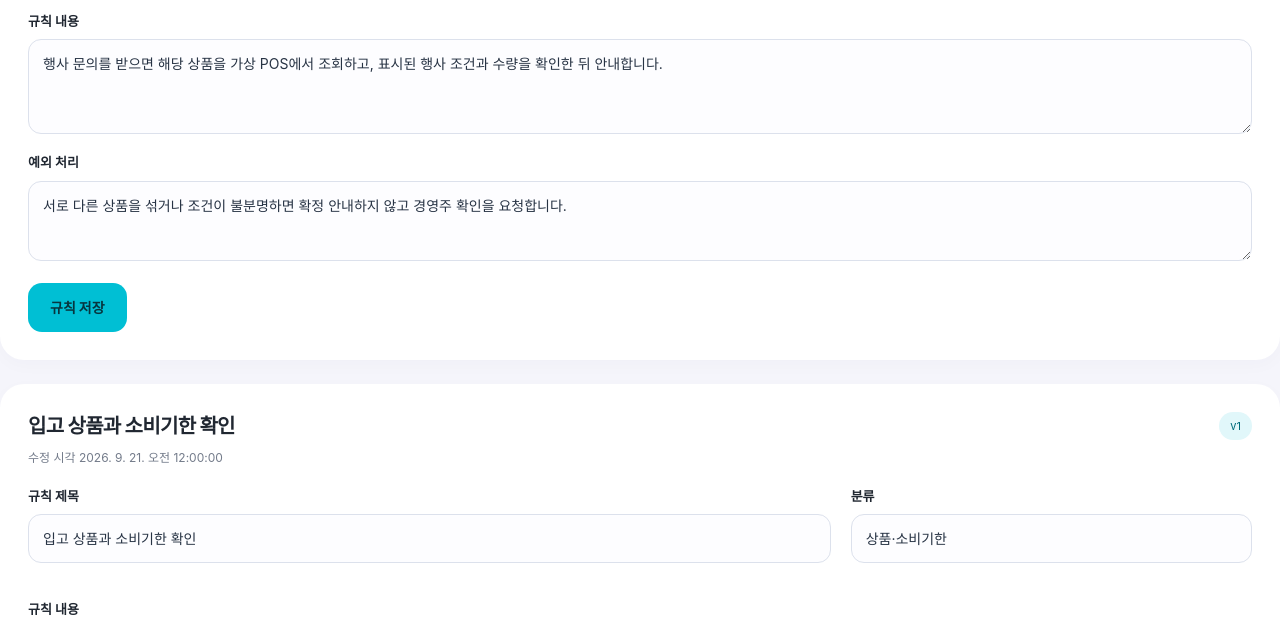
Test: does not report a durable save when storage writes fail
The image size is (1280, 628).
(page scrolled)
Click the button "규칙 저장" at (77, 307), box [28,283,127,332]
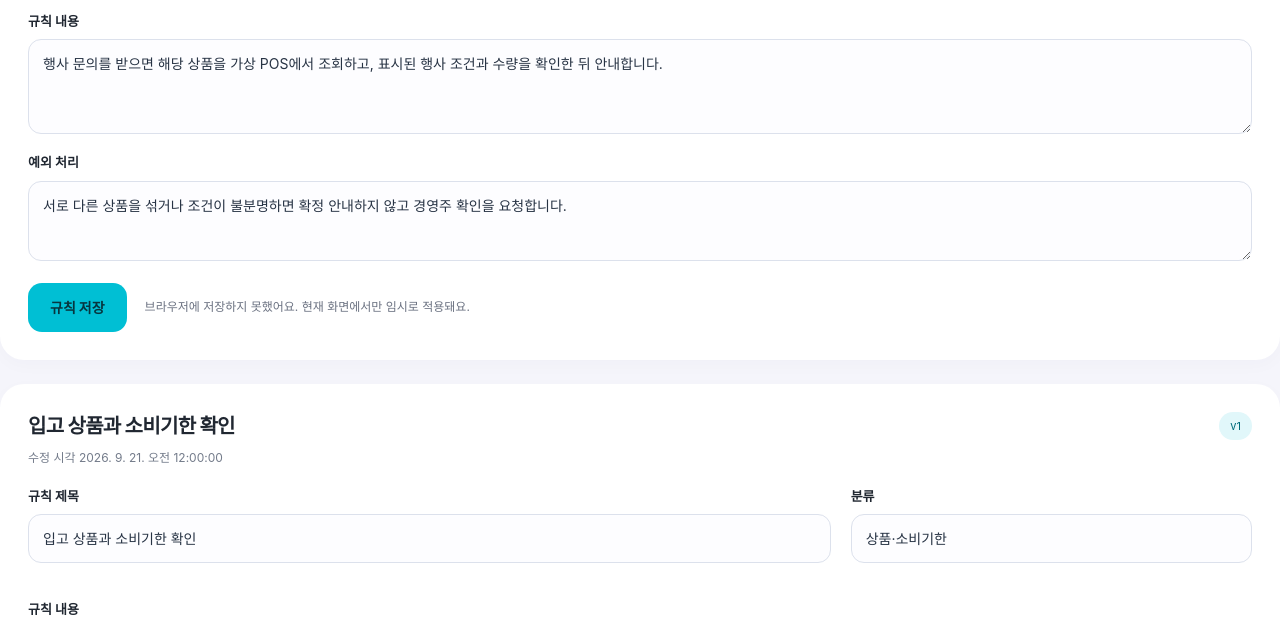
expect the message does not show "저장했어요": met, box [145,297,470,317]
expect the message shows "저장하지 못했어요": met, box [145,299,470,314]
